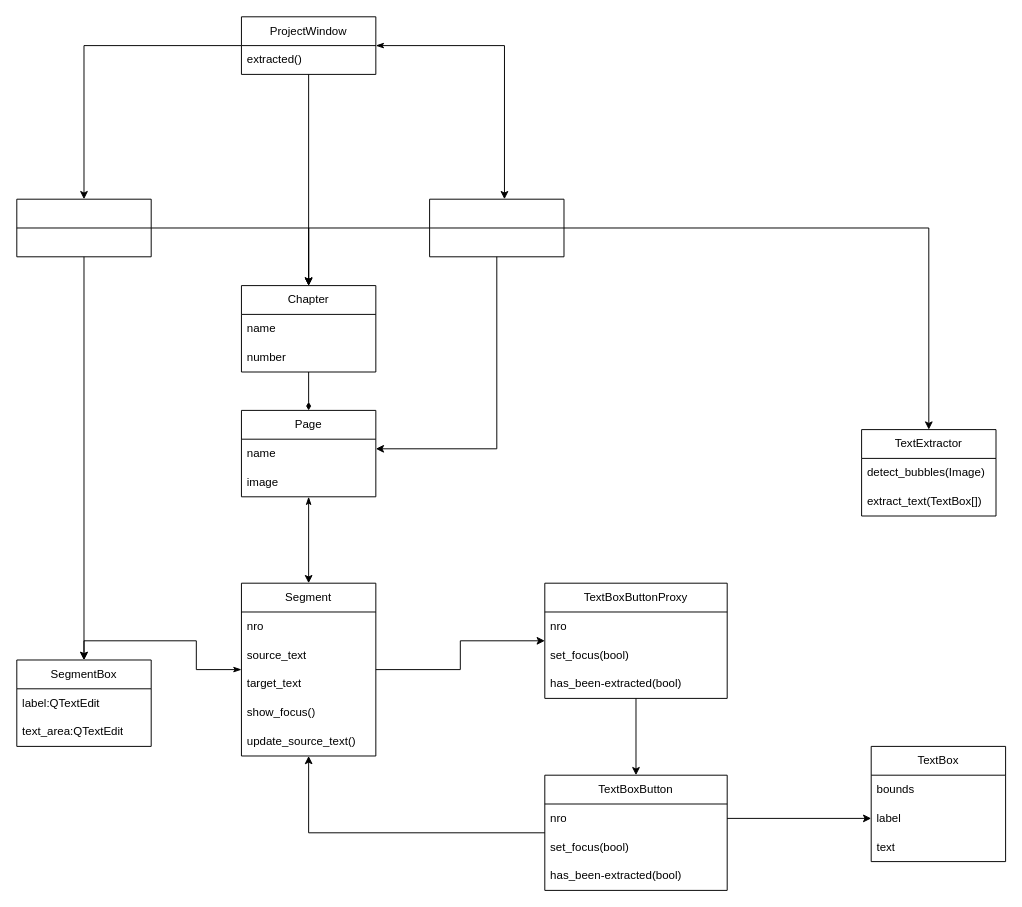
Image size: 1022x907. Some labels were removed from this diagram. The shapes that lost their labels are listed below. From the top down, each one's centre as x and y in pixels, then its label:
At (x=83, y=227): "TextViewer".
At (x=496, y=227): "ImageViewer".
